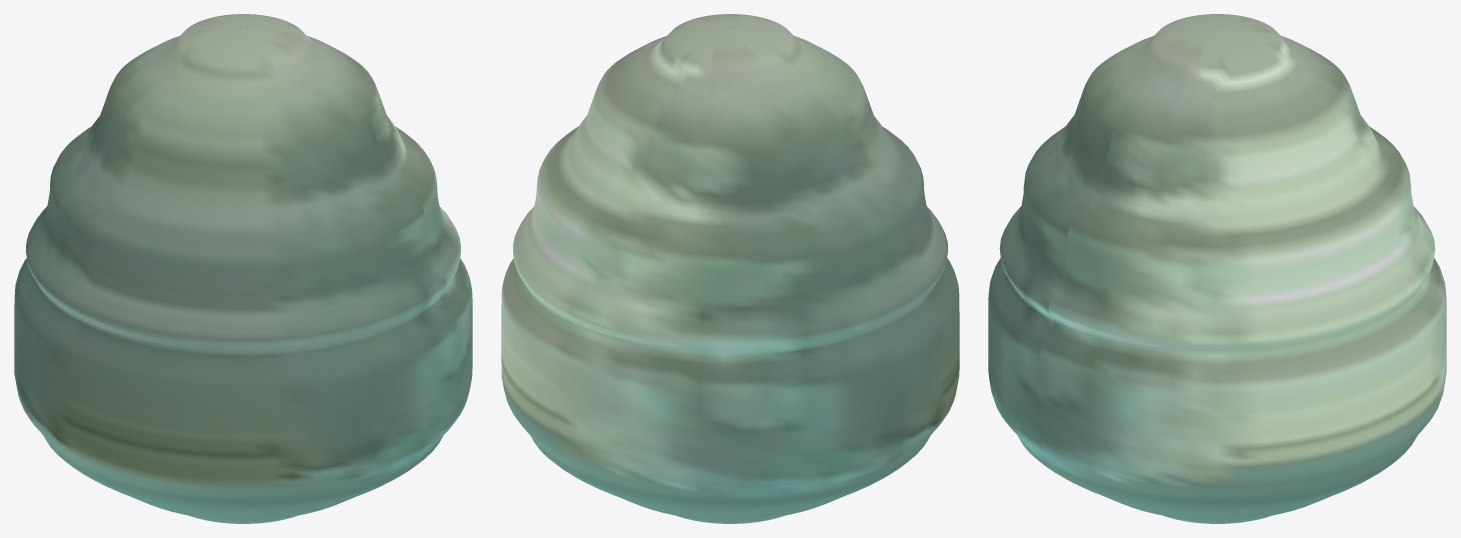
File: bush-2.glb
The picture shows the model from 3 angles, left to right: view 1: azimuth 30°, elevation 25°; view 2: azimuth 150°, elevation 25°; view 3: azimuth 270°, elevation 25°; orthographic projection.
Visible parts, largest first — view 1: bush-2; view 2: bush-2; view 3: bush-2.
Boxes of the visible parts, left/top/right/bottom form: bush-2: left=14, top=14, right=472, bottom=523; bush-2: left=501, top=14, right=959, bottom=523; bush-2: left=988, top=14, right=1446, bottom=523.
Size of the model in its own units: 0.9322 by 1.02 by 0.9322.
